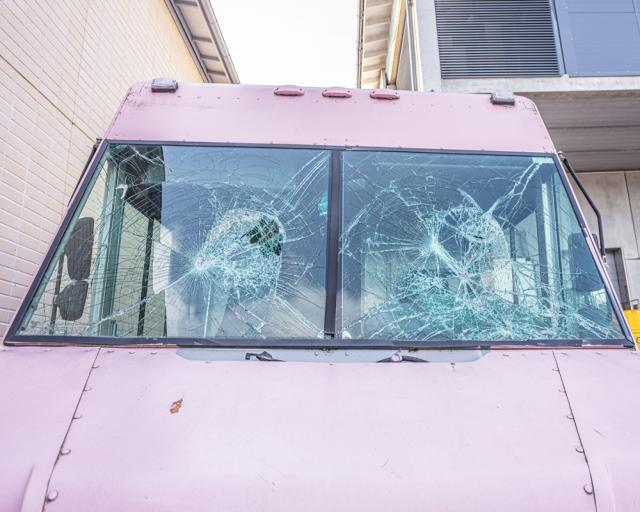glass shatter: (13, 143, 332, 339), (340, 150, 627, 342)
